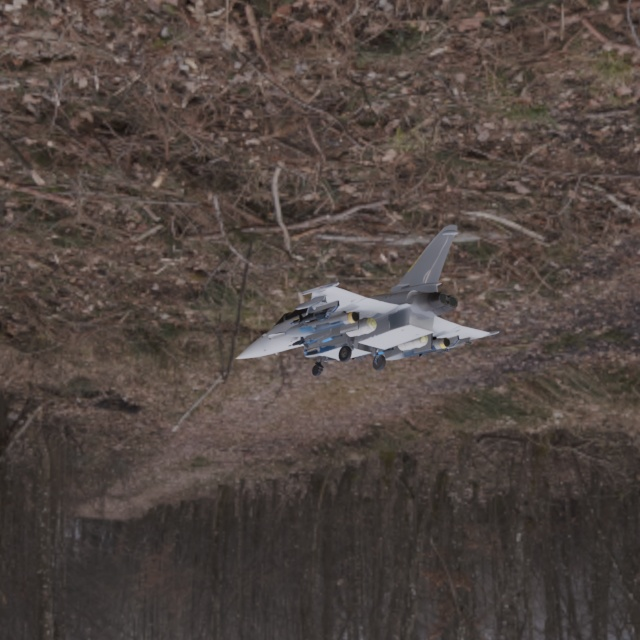eurofighter_typhoon_3d: (148, 190, 535, 410)
